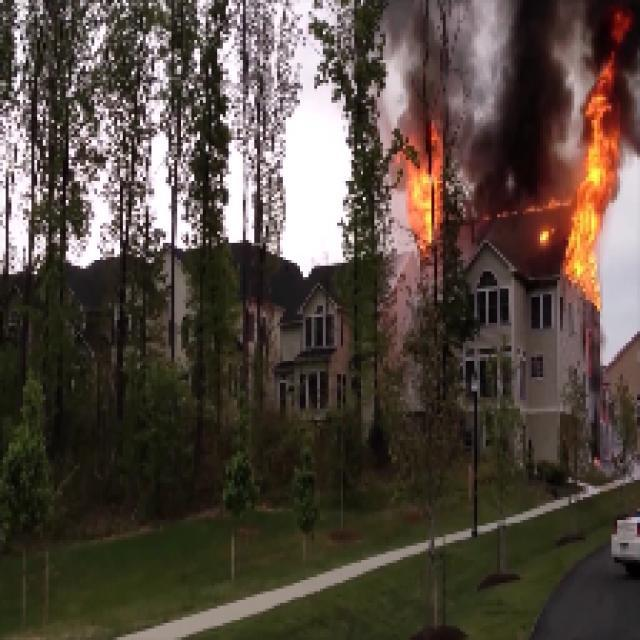Fire: (558, 83, 616, 283), (398, 132, 449, 240)
Smoke: (498, 1, 554, 193), (388, 0, 462, 114), (588, 4, 632, 70)
